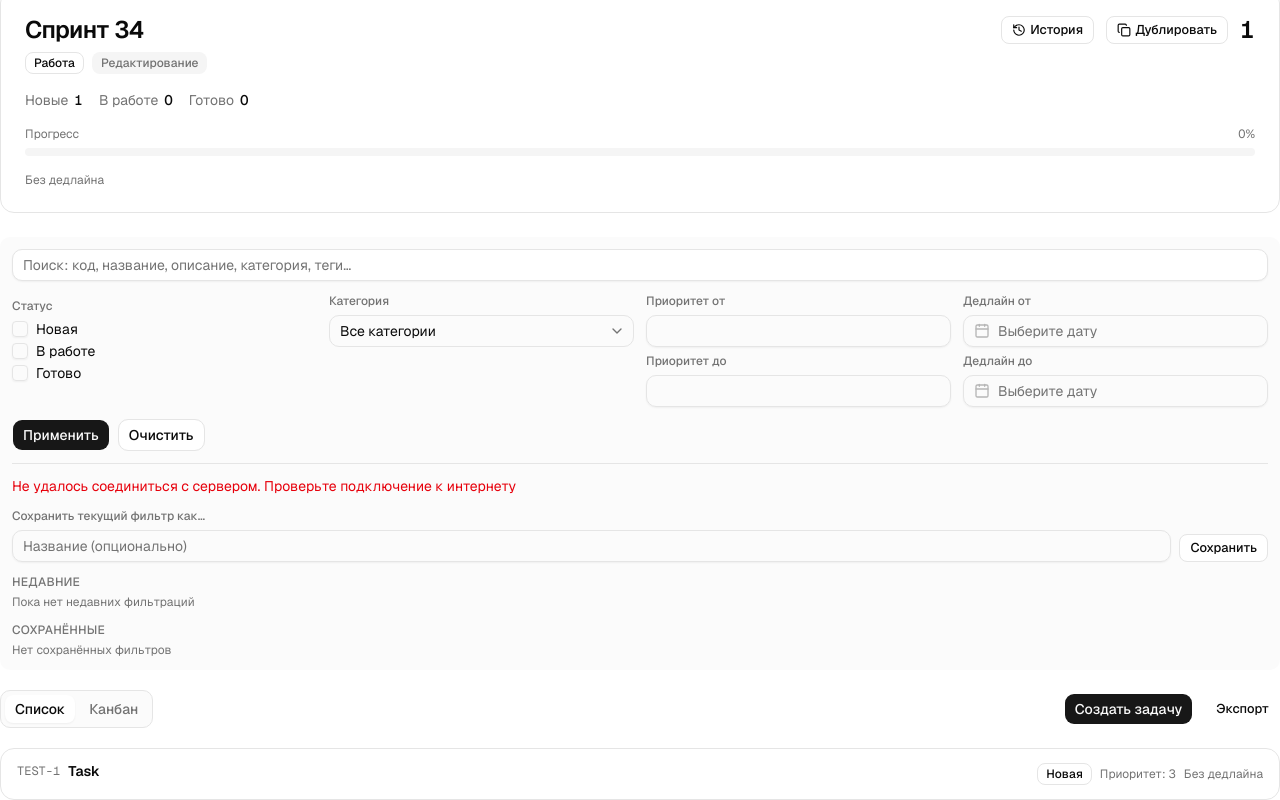
Test: ListDetail task edit permissions › lets a shared editor edit a task
(page scrolled)
Click the button with test id "task-row".
click(39, 771)  # box x1=1 y1=749 x2=1279 y2=799
(page scrolled)
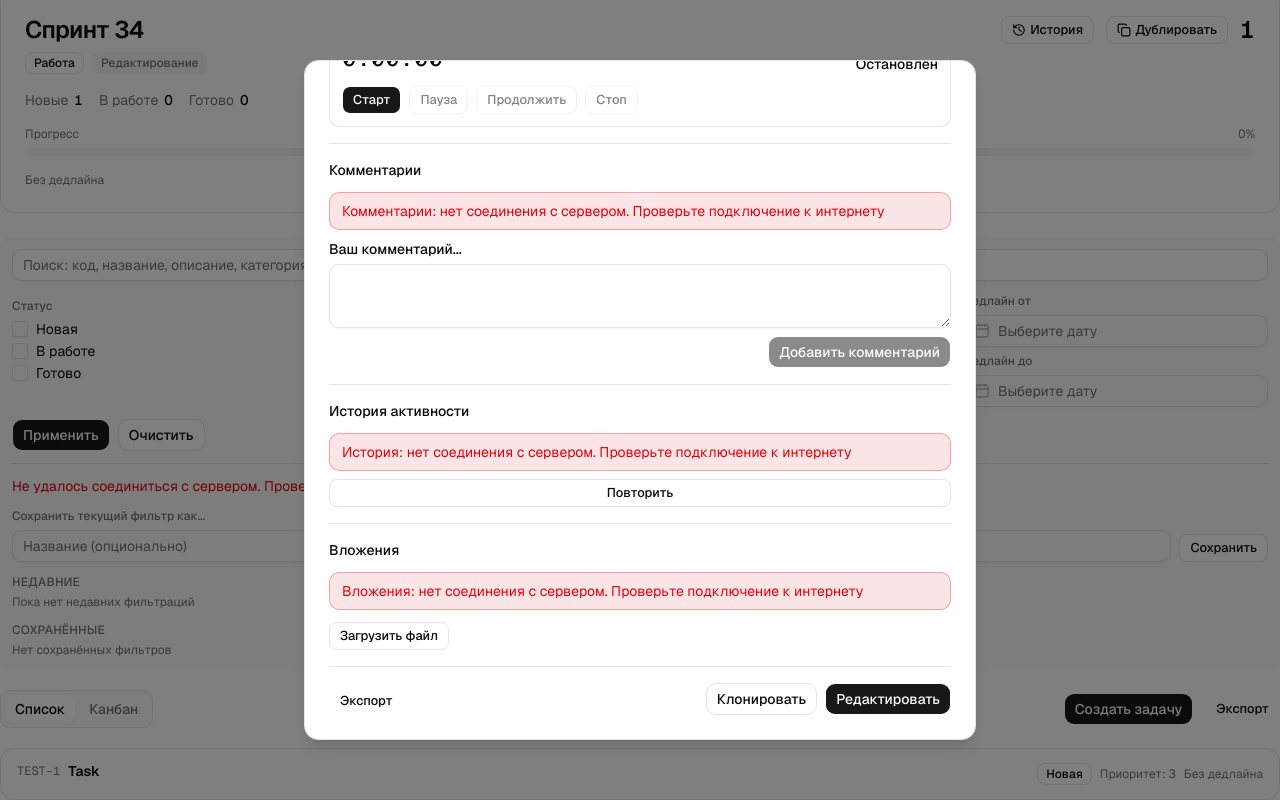
Check: the button with test id "task-detail-edit" is shown, box x1=825 y1=683 x2=951 y2=715
